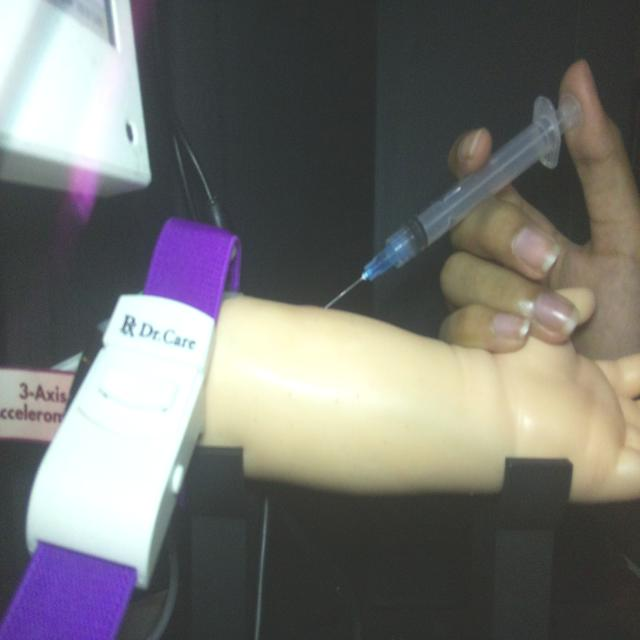28 degrees: (322, 89, 584, 312)
